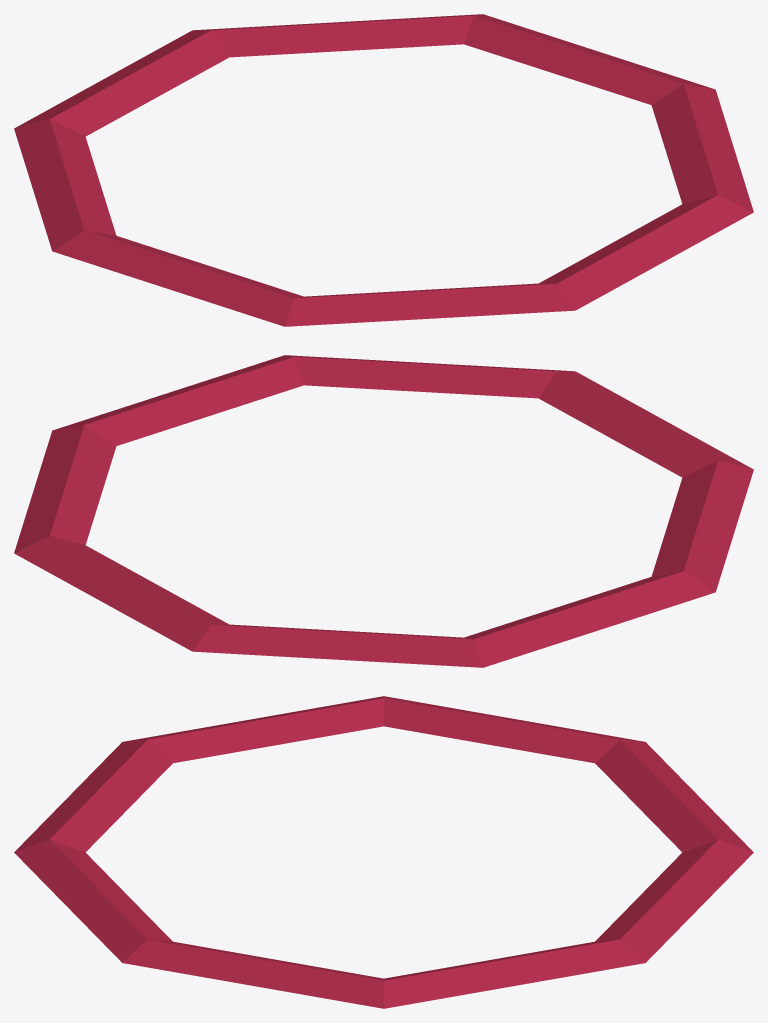
The model's file is ring.glb.
3 renders of one model, top to bottom at view 1: azimuth 30°, elevation 25°; view 2: azimuth 150°, elevation 25°; view 3: azimuth 270°, elevation 25°, orthographic. The views are drawn at different scales.
Parts seen in each view (by area): view 1: Ring; view 2: Ring; view 3: Ring.
Boxes of the visible parts, x1,y1,x2,y2 form: Ring: (14,14,753,326); Ring: (14,355,753,667); Ring: (14,696,753,1008).
Bounding box in the file's own units: 1.24 × 0.048 × 1.24.
